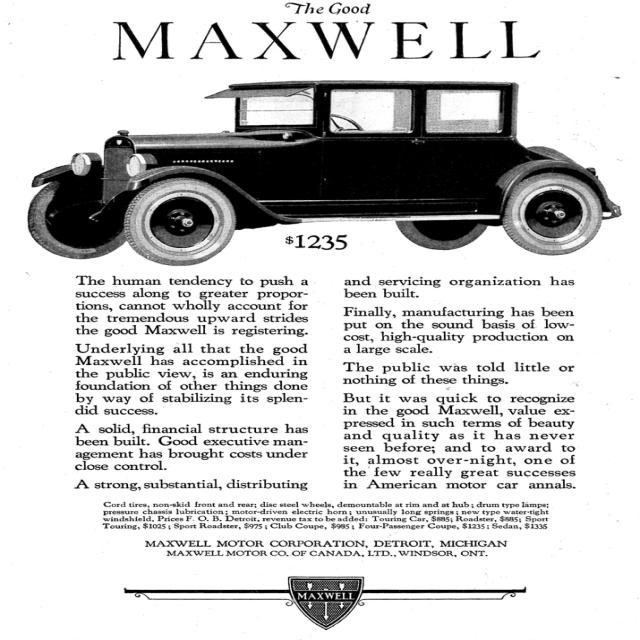car: (31, 78, 619, 258)
